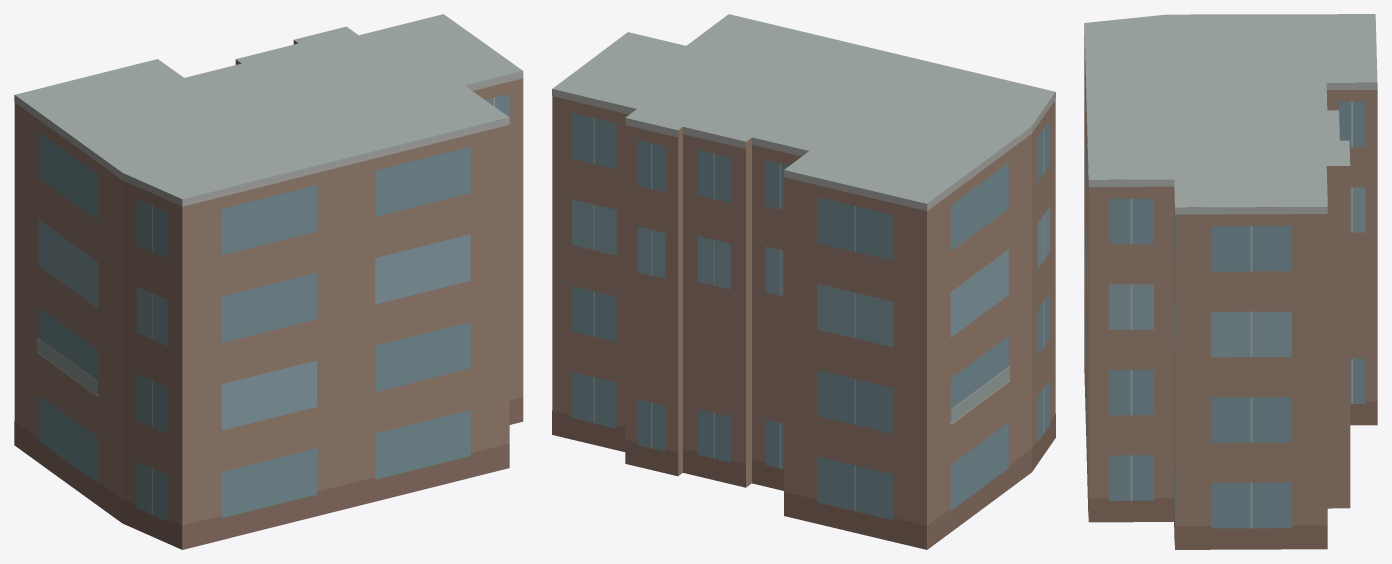
The model's file is survey-upis-32628457.glb.
The picture shows the model from 3 angles, left to right: view 1: azimuth 30°, elevation 25°; view 2: azimuth 150°, elevation 25°; view 3: azimuth 270°, elevation 25°; orthographic projection. The views are drawn at different scales.
Visible parts, largest first — view 1: survey-upis-32628457.tmp; view 2: survey-upis-32628457.tmp; view 3: survey-upis-32628457.tmp.
Part boxes in pixels (left/top/right/bottom): survey-upis-32628457.tmp: left=14, top=14, right=523, bottom=549; survey-upis-32628457.tmp: left=552, top=14, right=1055, bottom=549; survey-upis-32628457.tmp: left=1084, top=14, right=1377, bottom=549.
Size of the model in its own units: 14.1 by 11.6 by 9.01.
